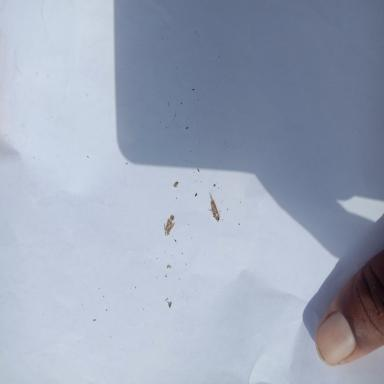pbw: (208, 192, 222, 222), (164, 218, 174, 236)
